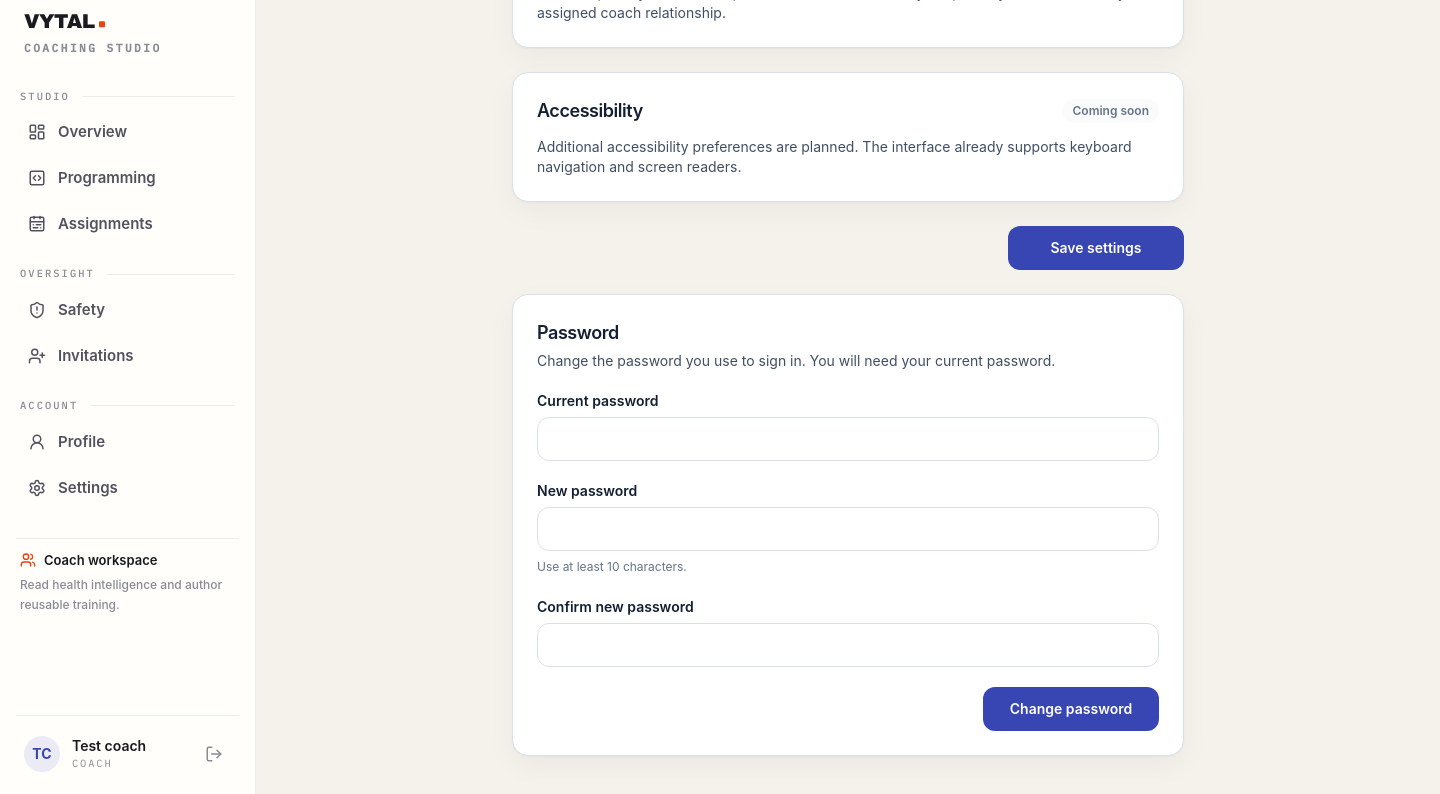
blocks a password change when the confirmation does not match
(page scrolled)
Step 1. Type "CoachPass123!" into the password field labelled "Current password" → point(848, 439), box [537,417,1159,461]
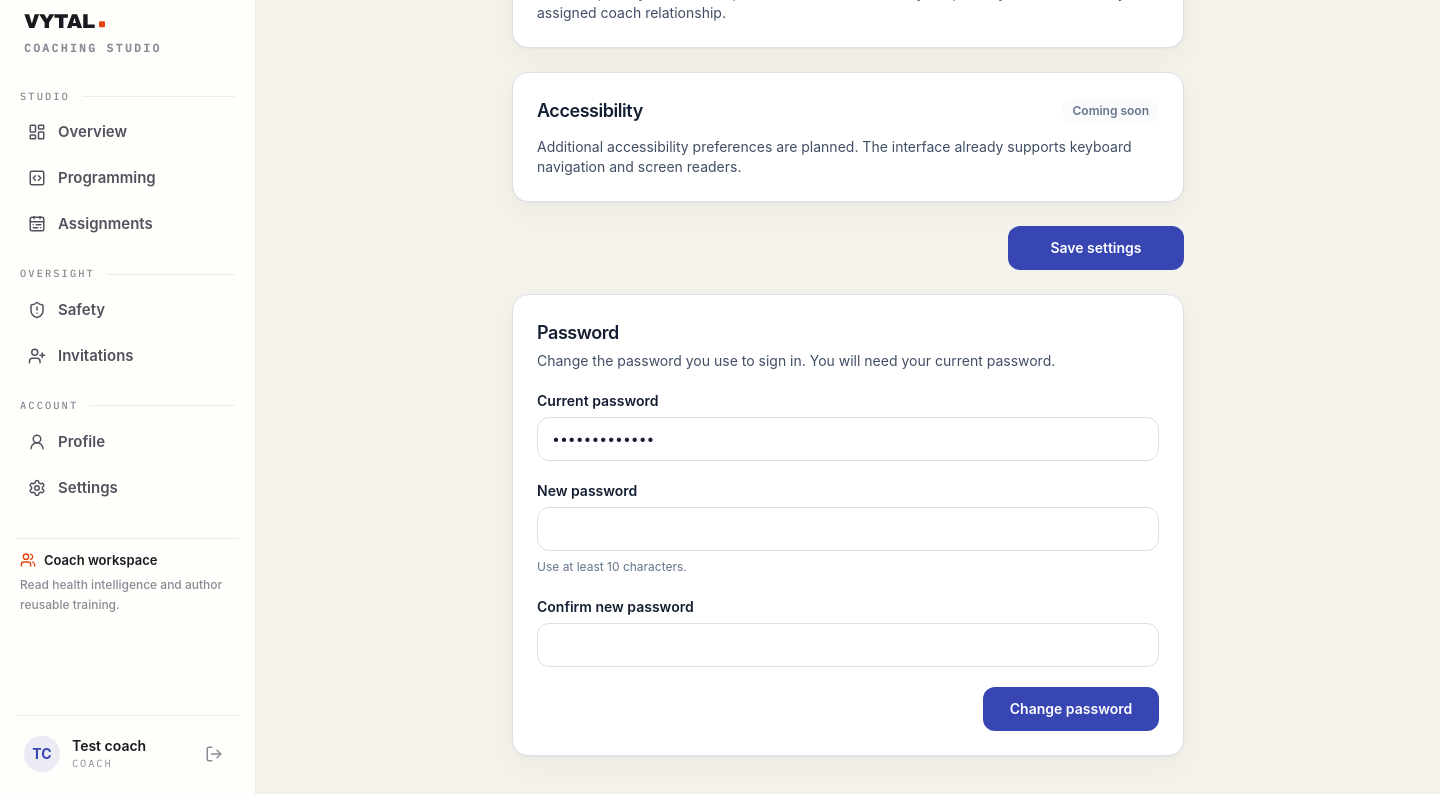
Step 2. Type "BrandNewPass1" into the password field labelled "New password" → point(848, 529), box [537,507,1159,551]
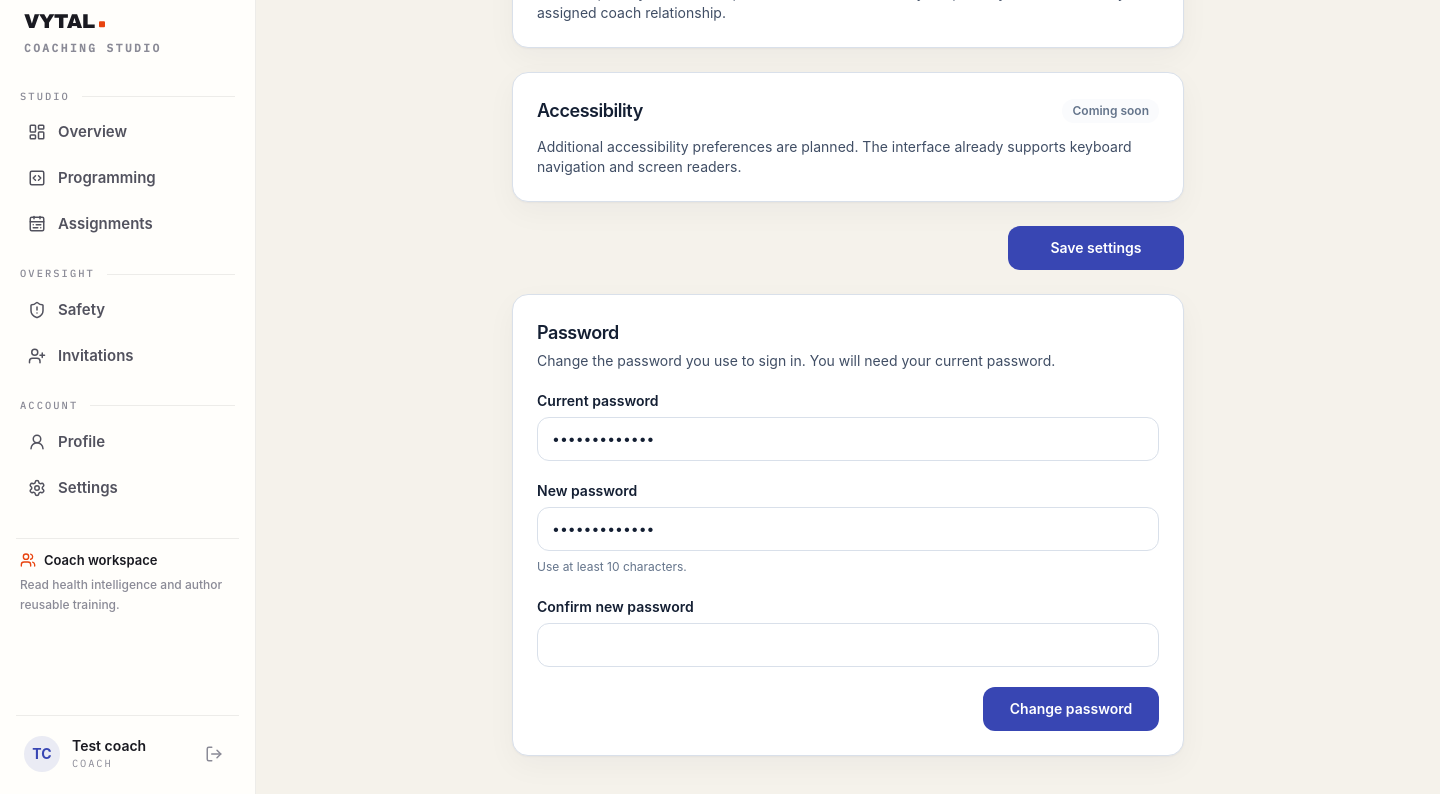
Step 3. Type "Different123" into the password field labelled "Confirm new password" → point(848, 645), box [537,623,1159,667]
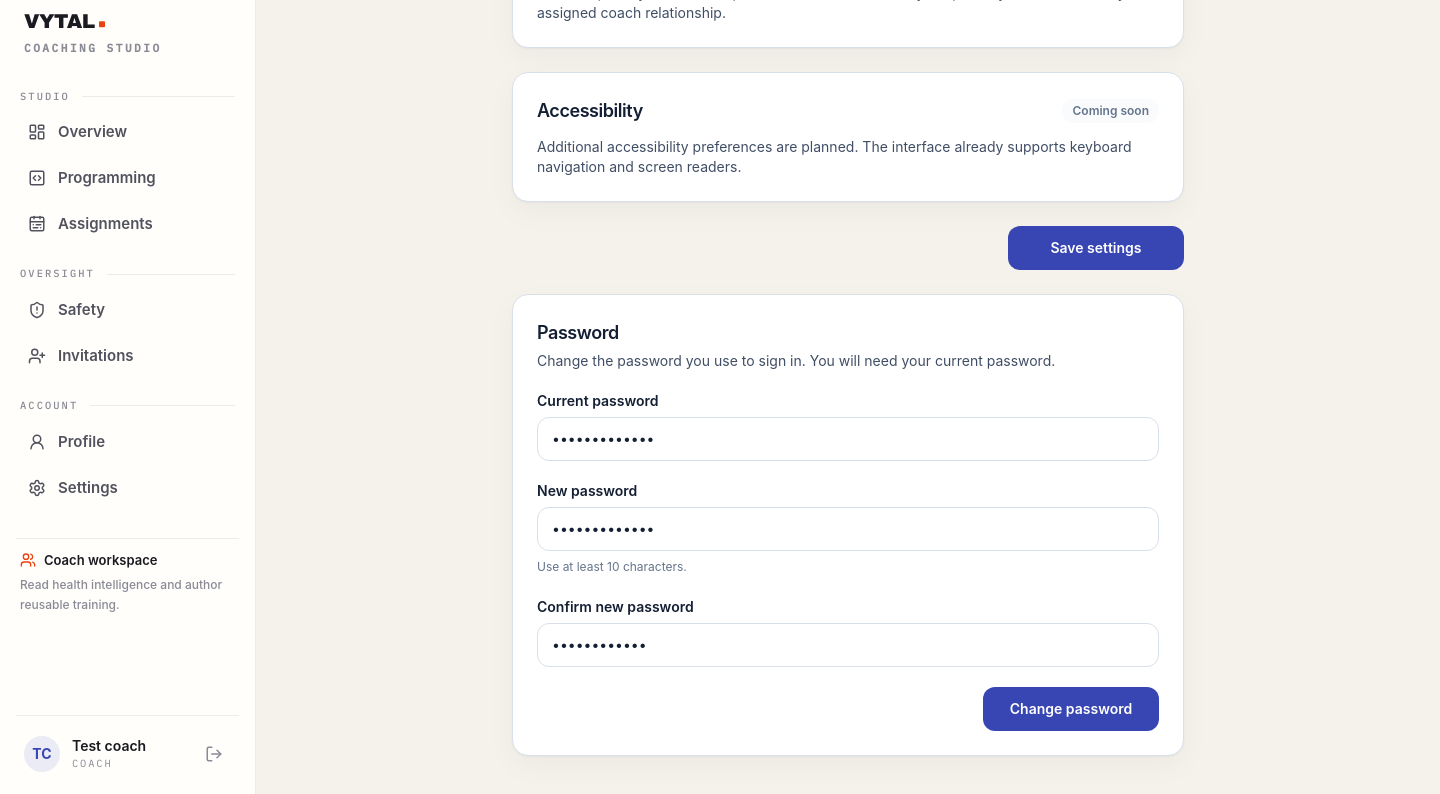
Step 4. Click the button "Change password" → point(1071, 709), box [983,687,1159,731]
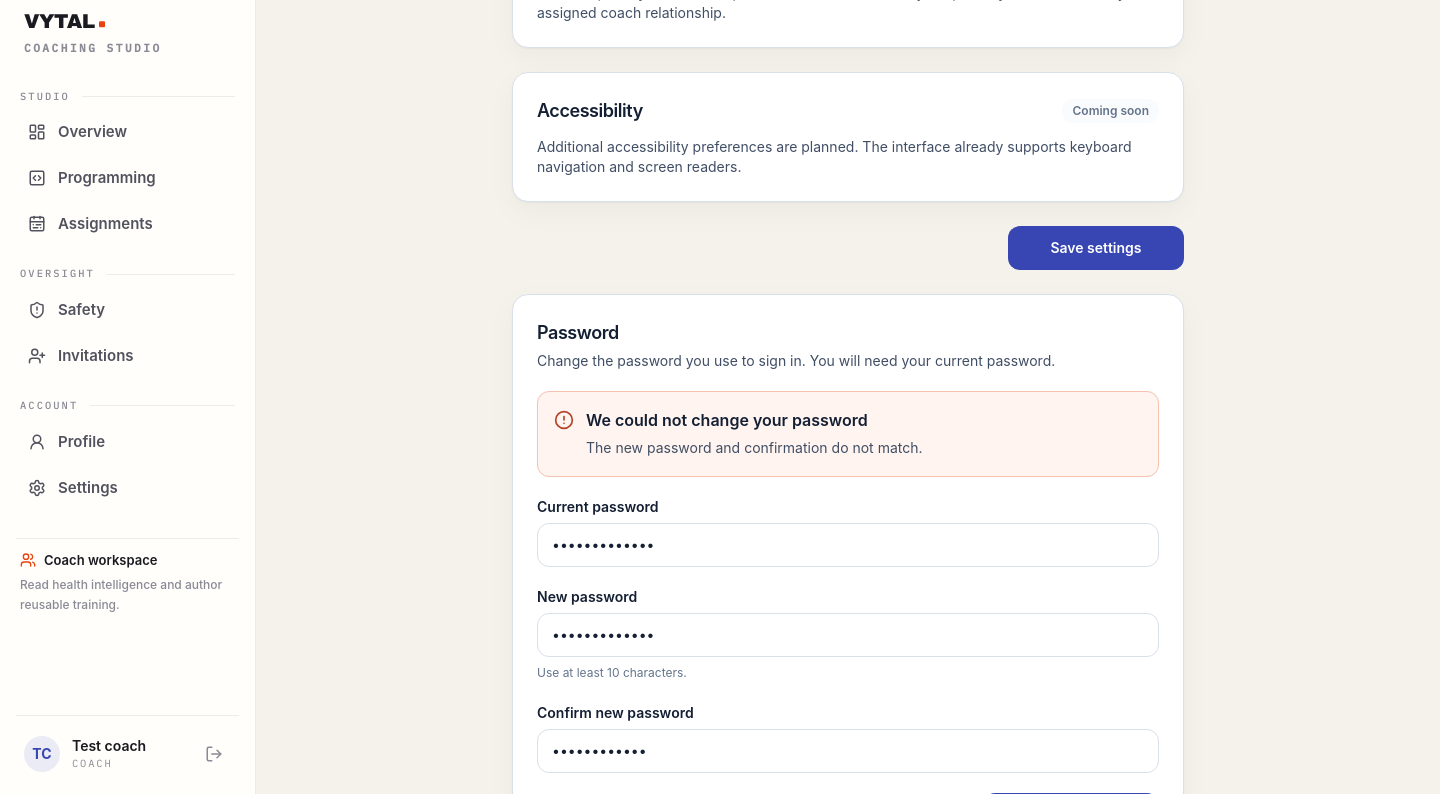
Expected: the text "The new password and confirmation do not match." is shown, [586,439,922,456]
